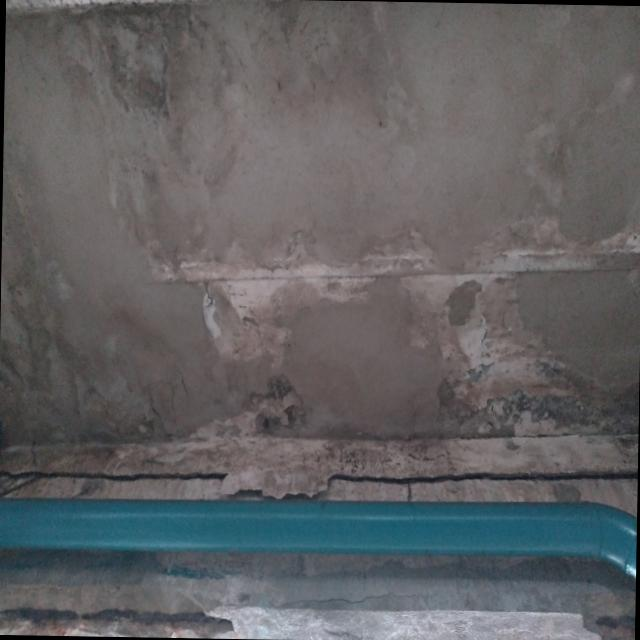gas: (0, 500, 637, 575)
